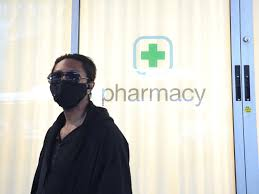mask: (44, 45, 96, 111)
